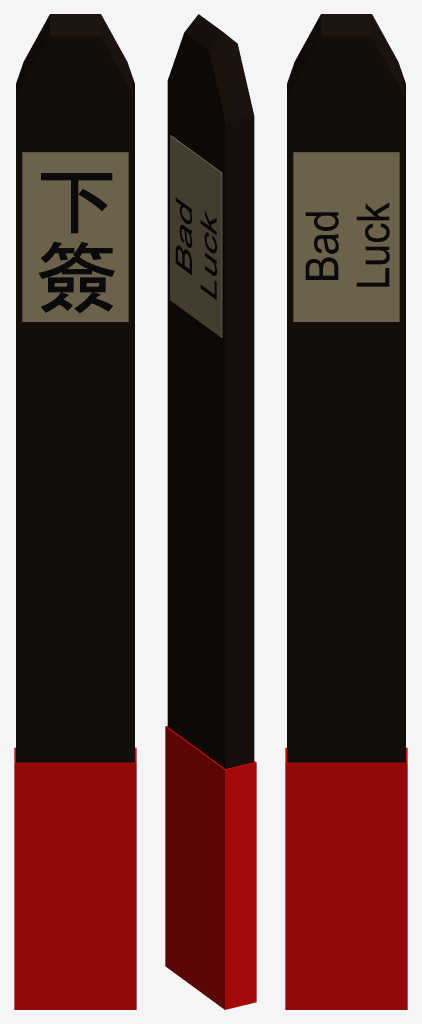
File: badLuck.fbx
3 views of the same model, side by side, from view 1: azimuth 90°, elevation 25°; view 2: azimuth 210°, elevation 25°; view 3: azimuth 270°, elevation 25° (orthographic). The views are drawn at different scales.
Visible parts, largest first — view 1: Line001, Box001, Box002, 加强型文本001; view 2: Line001, Box001, Box002, 加强型文本002; view 3: Line001, Box001, Box002, 加强型文本002.
Part boxes in pixels (left/top/right/bottom): Line001: left=16, top=14, right=134, bottom=762; Box001: left=14, top=747, right=136, bottom=1009; Box002: left=22, top=152, right=128, bottom=321; 加强型文本001: left=39, top=173, right=114, bottom=312; Line001: left=167, top=14, right=254, bottom=768; Box001: left=165, top=726, right=256, bottom=1009; Box002: left=170, top=135, right=222, bottom=337; 加强型文本002: left=175, top=198, right=216, bottom=299; Line001: left=287, top=14, right=405, bottom=762; Box001: left=285, top=747, right=407, bottom=1009; Box002: left=293, top=152, right=399, bottom=321; 加强型文本002: left=305, top=202, right=389, bottom=286.
Size of the model in its own units: 2.27 by 64.1 by 7.2.
